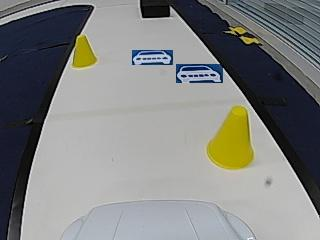block: (139, 0, 169, 18)
cone: (206, 105, 253, 170), (71, 35, 98, 68)
